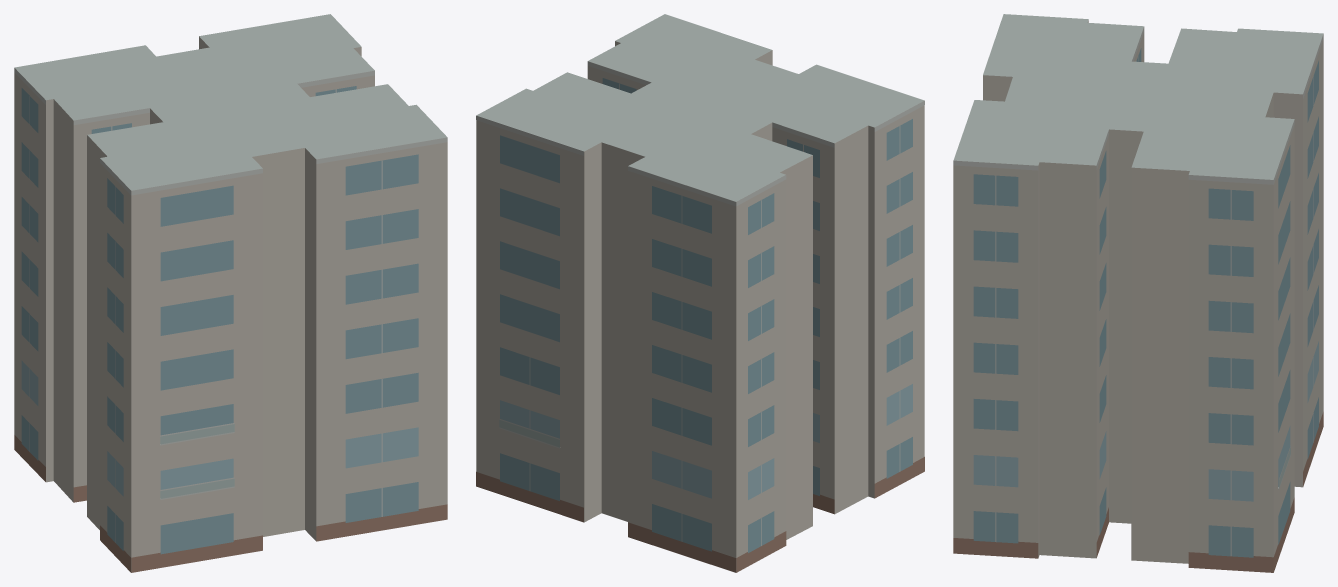
Rendered from survey-upis-32515482.glb.
3 renders of one model, left to right at view 1: azimuth 30°, elevation 25°; view 2: azimuth 150°, elevation 25°; view 3: azimuth 270°, elevation 25°, orthographic. The views are drawn at different scales.
Parts seen in each view (by area): view 1: survey-upis-32515482.tmp; view 2: survey-upis-32515482.tmp; view 3: survey-upis-32515482.tmp.
Part boxes in pixels (box(x1,y1,x2,y2)): survey-upis-32515482.tmp: box(14, 14, 447, 572); survey-upis-32515482.tmp: box(476, 14, 924, 572); survey-upis-32515482.tmp: box(953, 14, 1323, 572).
Bounding box in the file's own units: 17.95 × 19.8 × 16.92.
